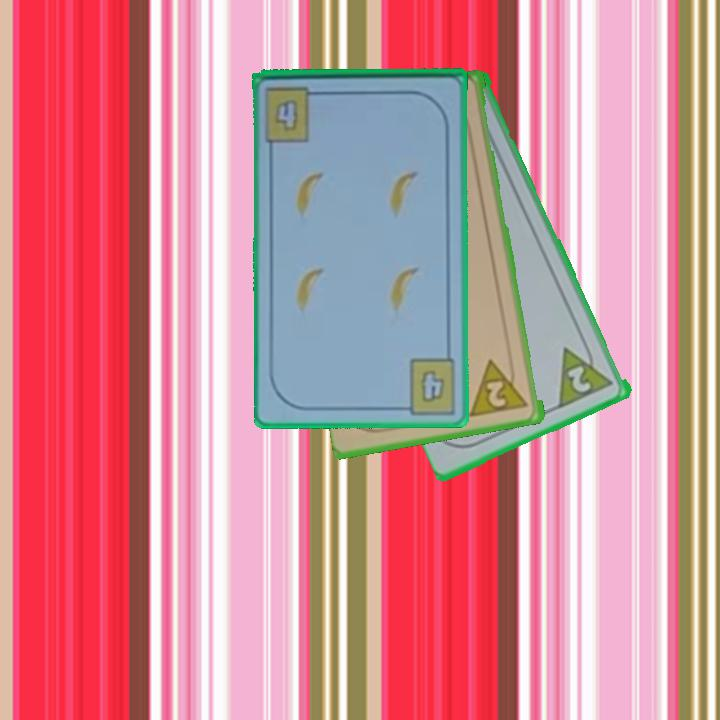2p: (468, 353, 532, 420), (564, 362, 595, 396)
4b: (395, 353, 458, 415), (272, 96, 302, 135)
